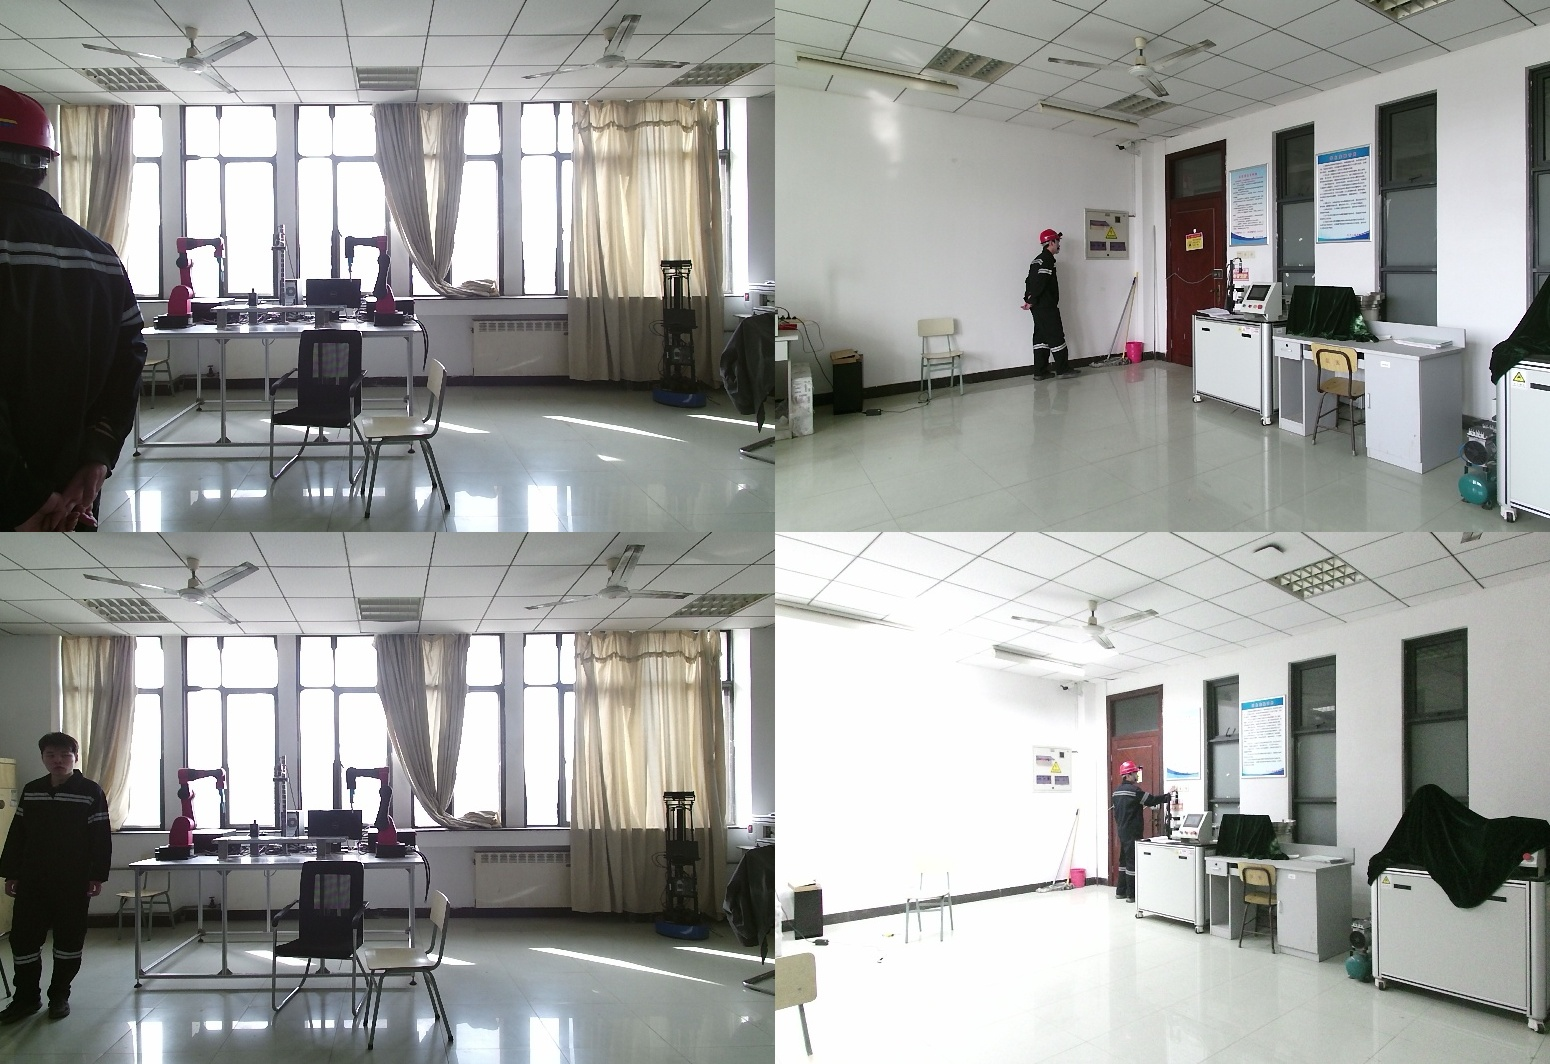person: (1, 87, 148, 532), (3, 732, 118, 1019), (1105, 763, 1168, 908), (1021, 229, 1064, 385)
